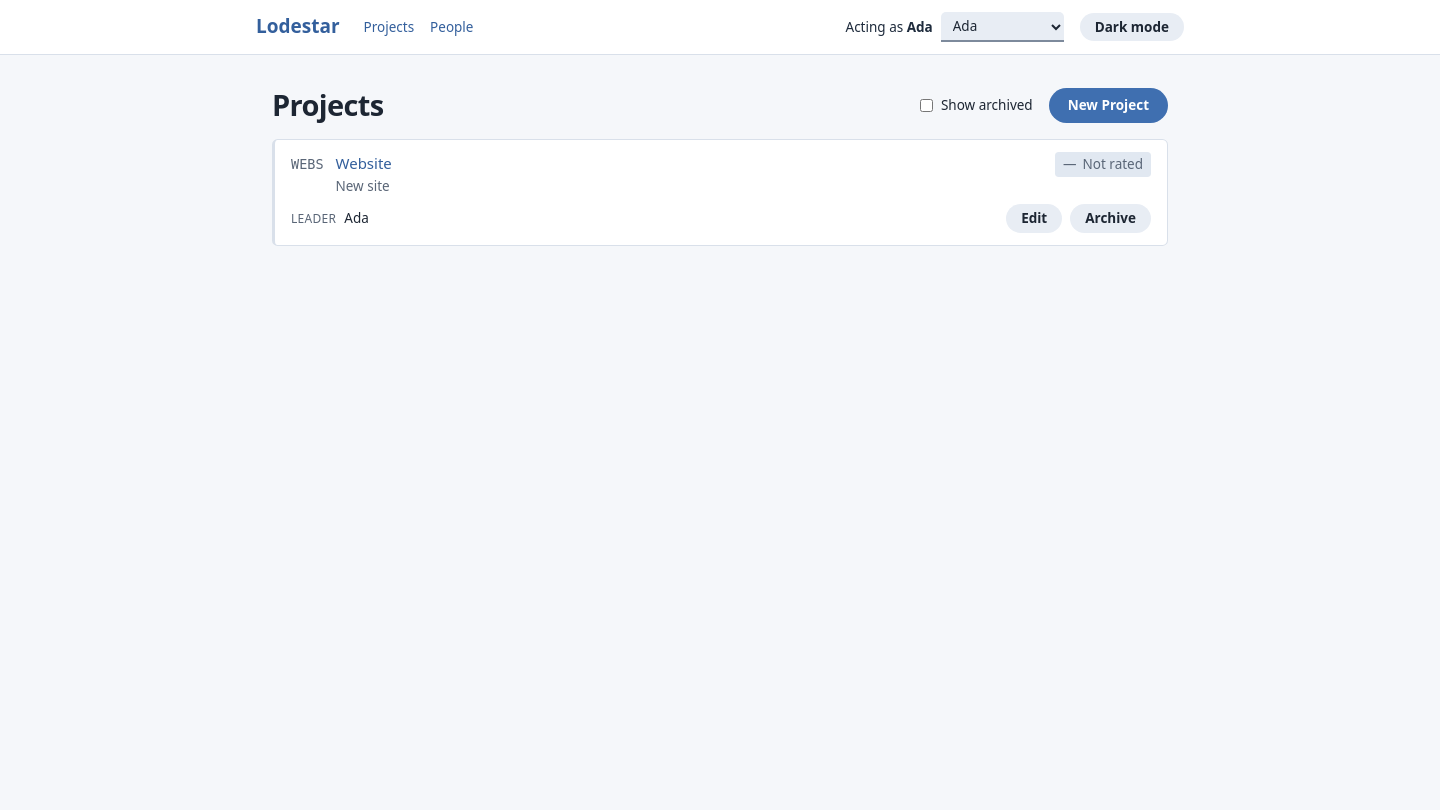
Test: Projects page › creates a Project with the suggested code, which can be edited
Click the button "New Project": x=1108, y=105 [1049,88,1168,123]
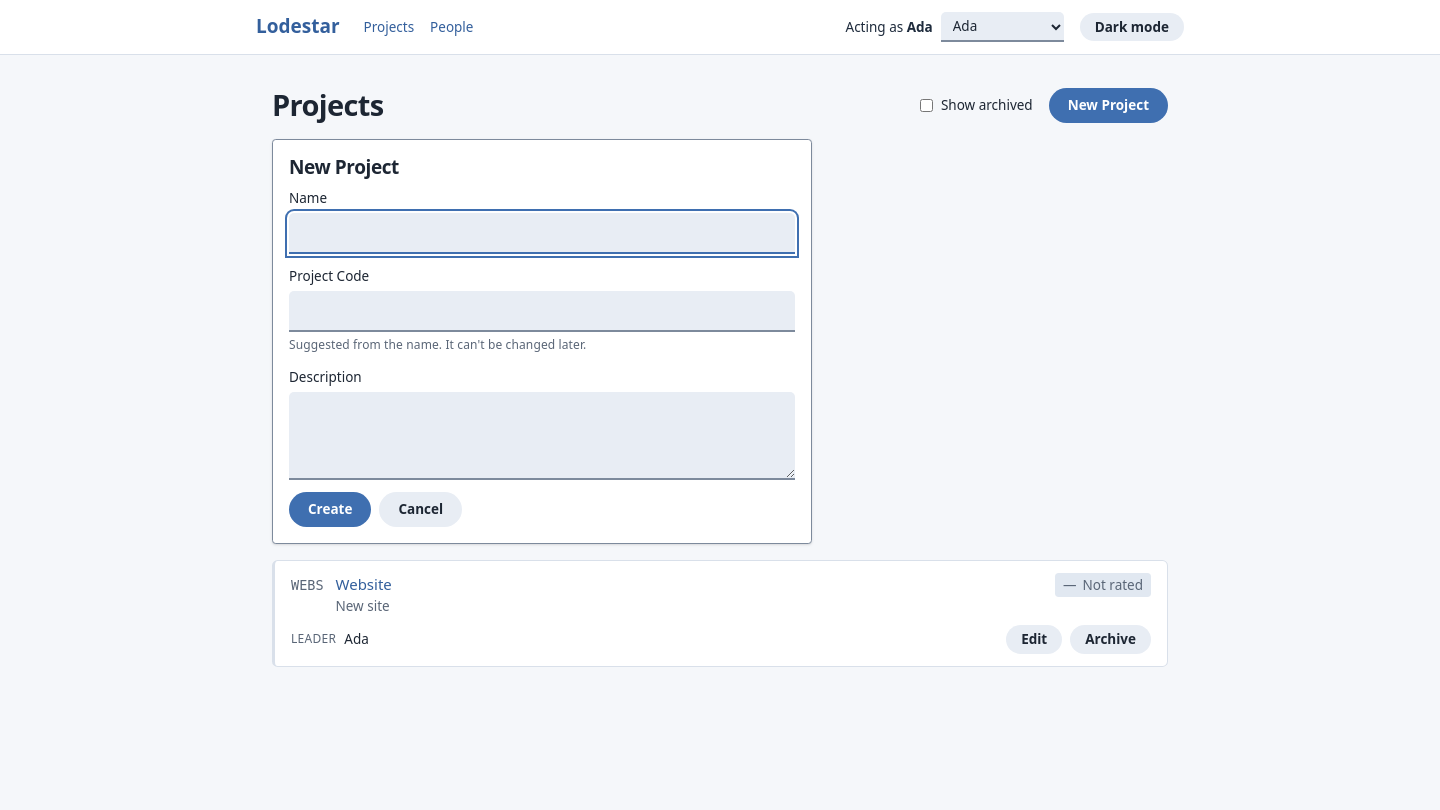
In the field labelled "Name": x=542, y=234 [289,213,795,254], type "Website"
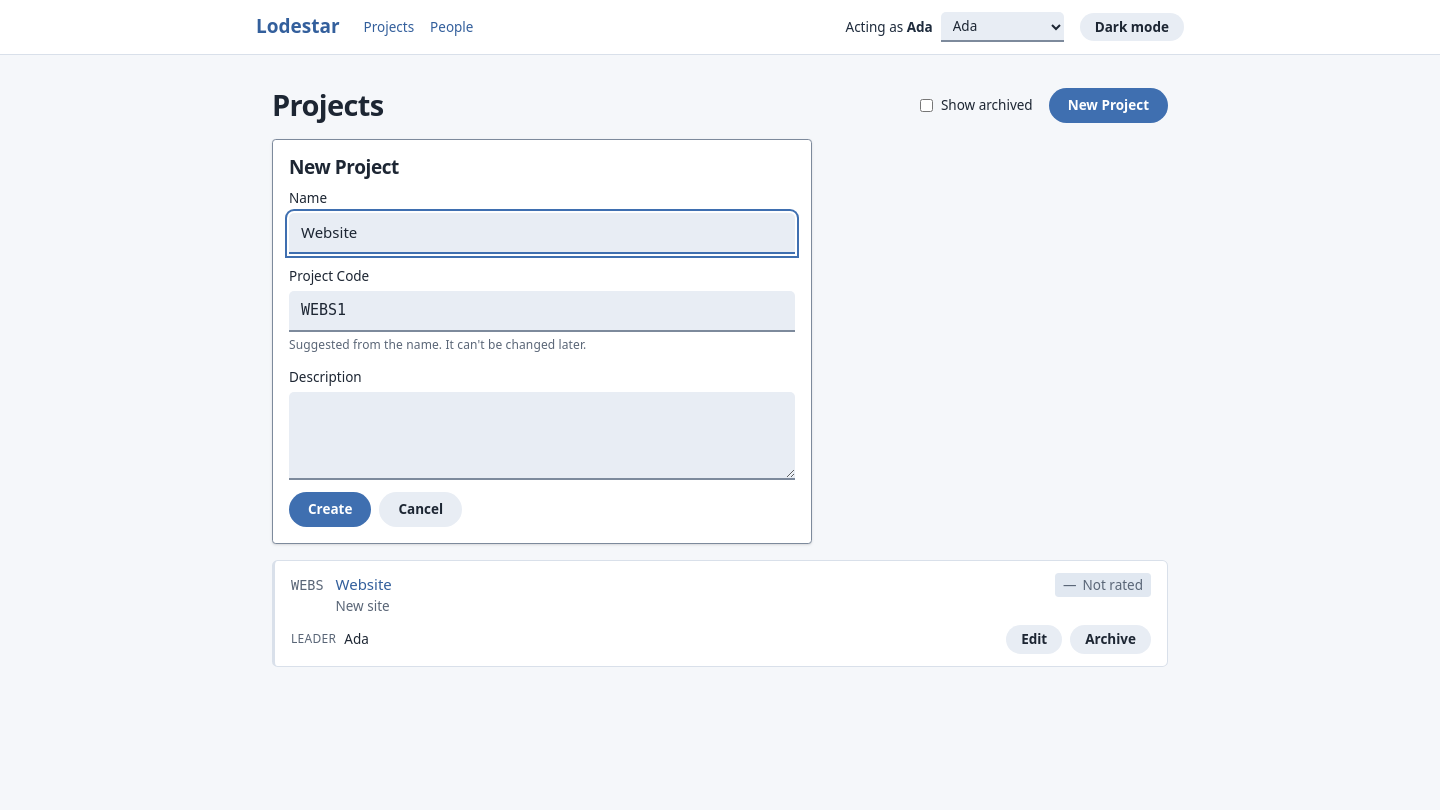
Expected: the field labelled "Project Code" holds "WEBS1"
Replace the text in the field labelled "Project Code" with "SITE2": x=542, y=312 [289,291,795,332]
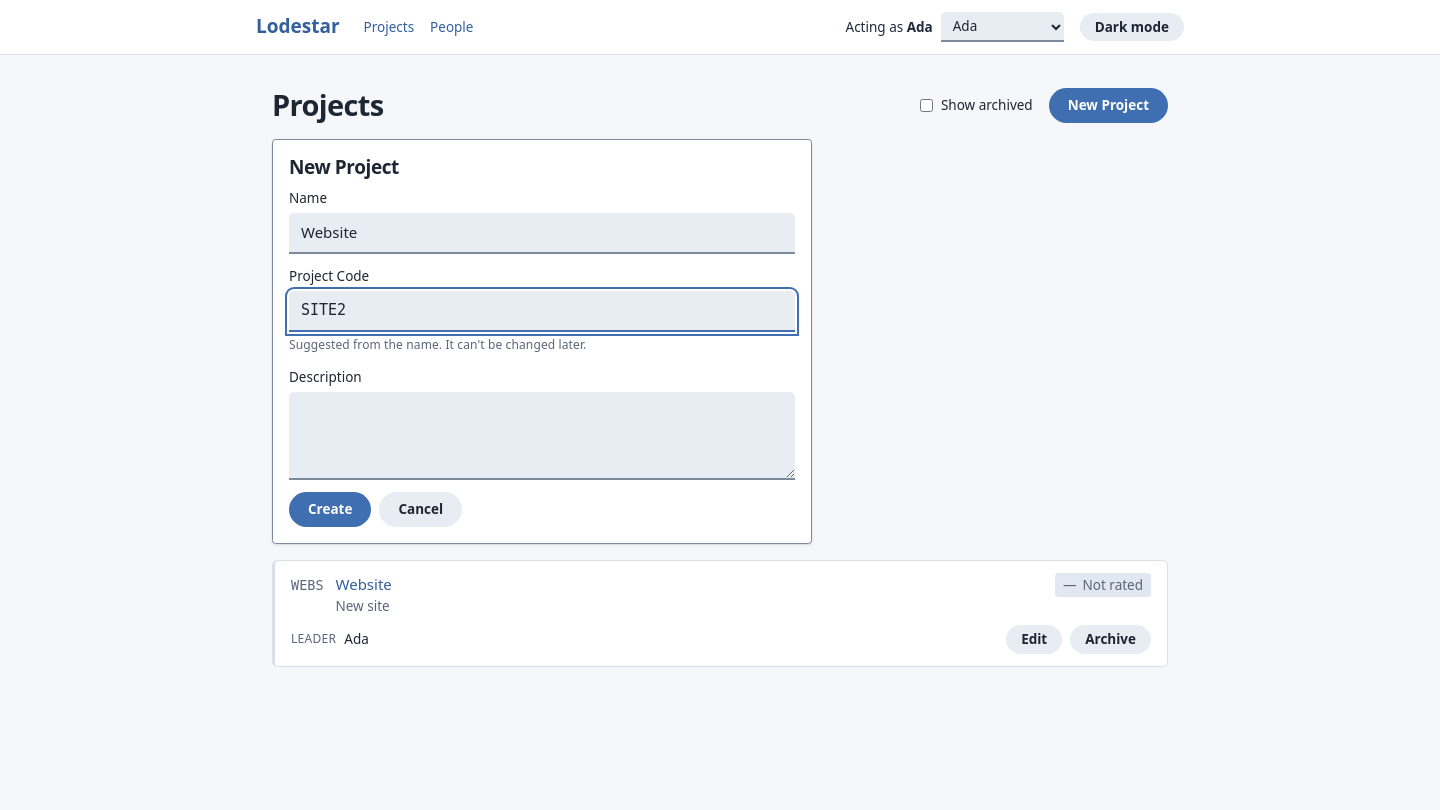
In the text box labelled "Description": x=542, y=436 [289,392,795,480], type "Second go"
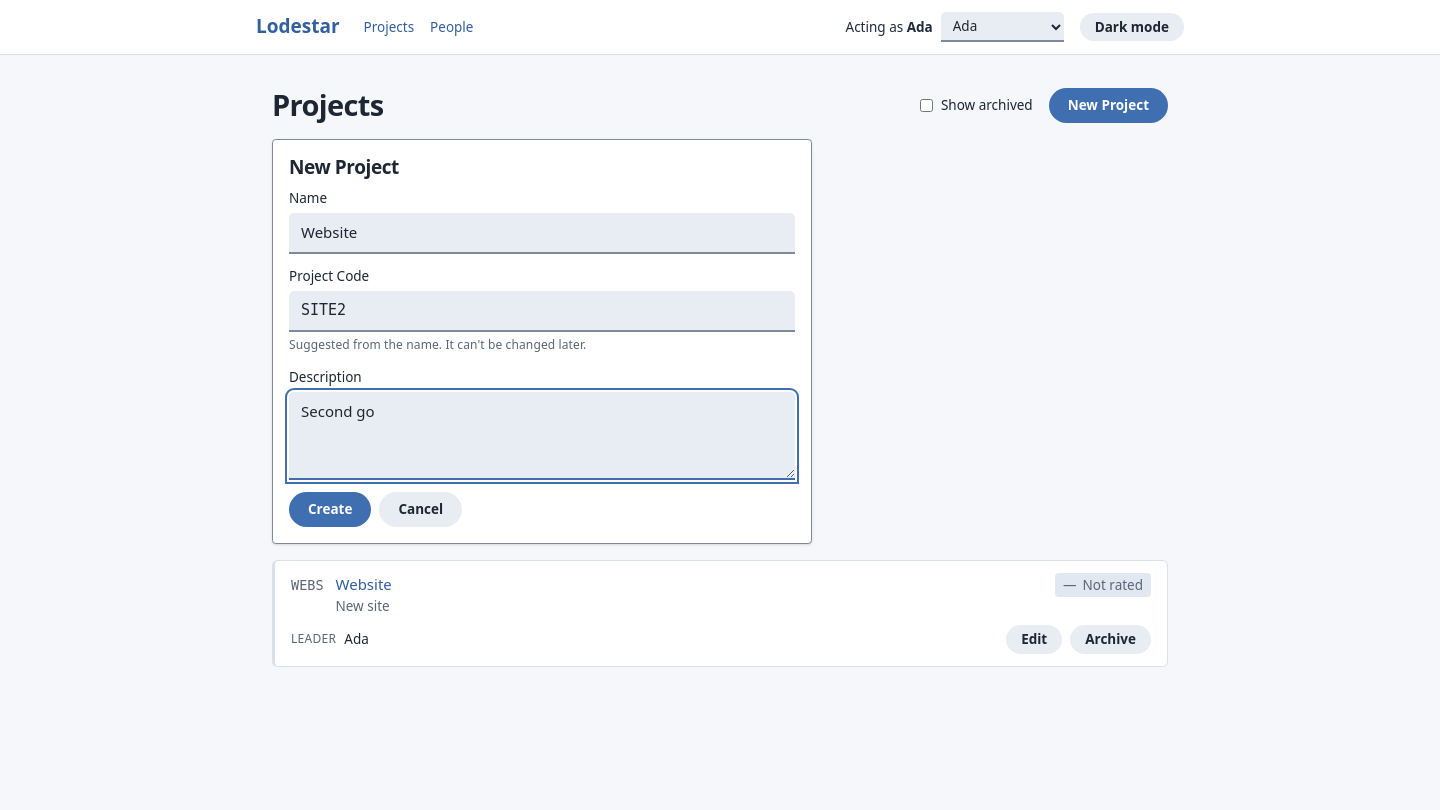
Click the button "Create": x=330, y=509 [289,492,371,526]
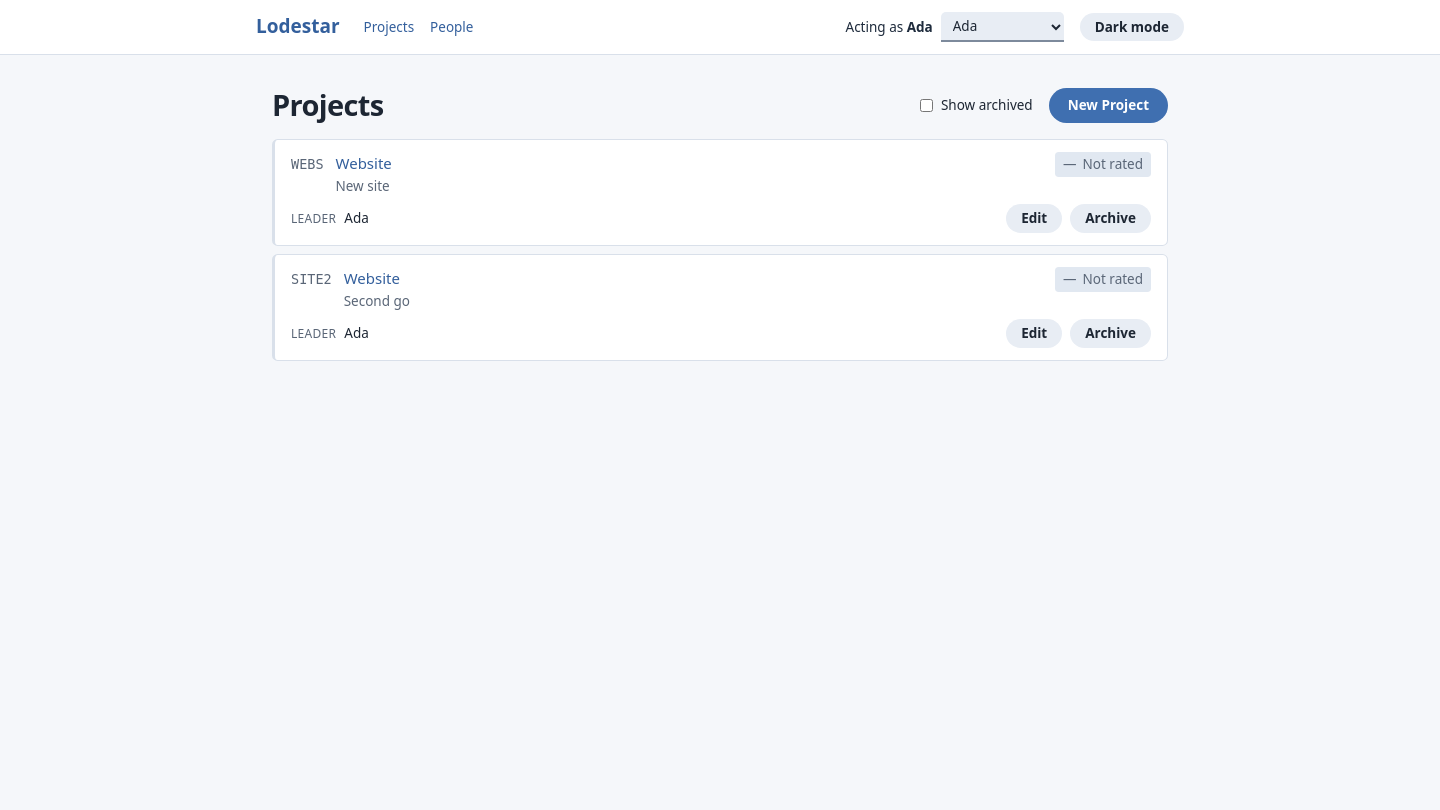
Expected: the dialog is gone
